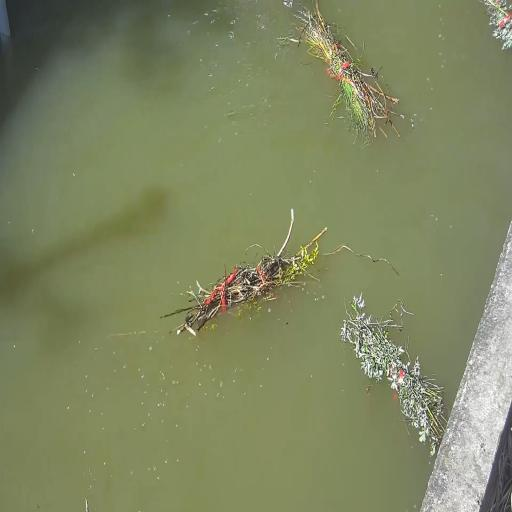twig: (164, 227, 325, 333), (341, 294, 446, 455), (280, 0, 399, 141), (479, 0, 512, 49)
